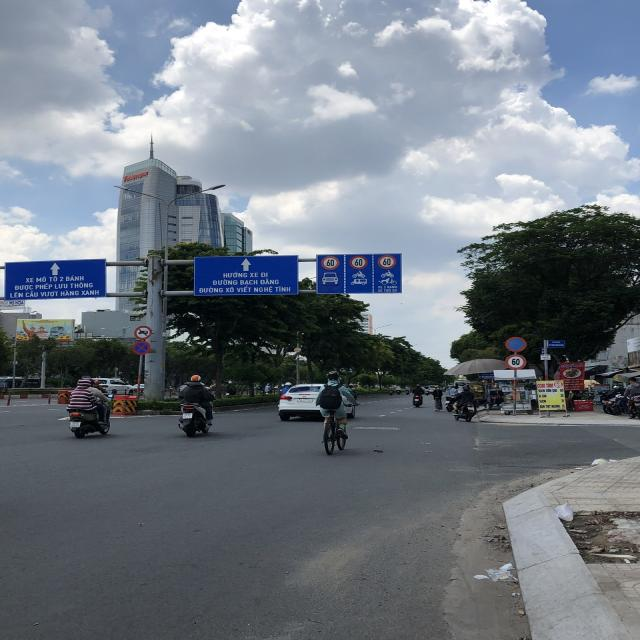Bien bao cam do xe: (503, 335, 528, 353)
Bien bao cam dung xe va do xe: (132, 340, 153, 356)
Bien bao cam xe oto tai: (133, 324, 153, 339)
Bien bao toc do toi da cho phep: (506, 353, 527, 370), (376, 253, 398, 269), (320, 254, 341, 270), (348, 254, 369, 270)
